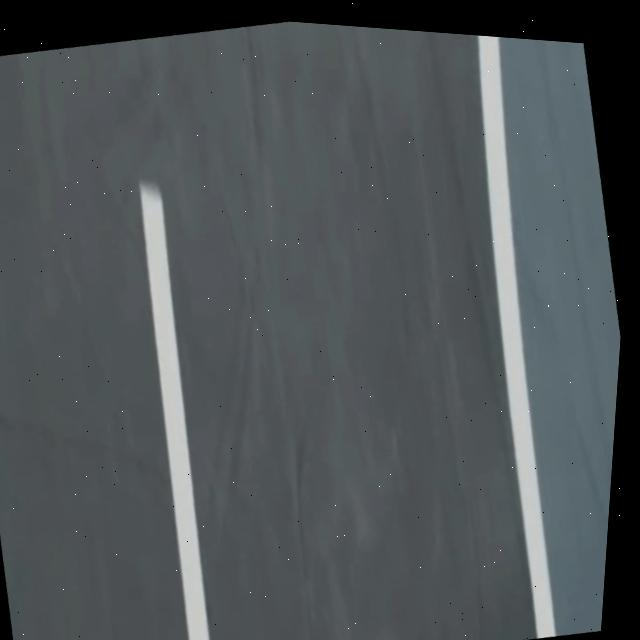center: (141, 182, 211, 640)
left: (479, 35, 557, 639)
